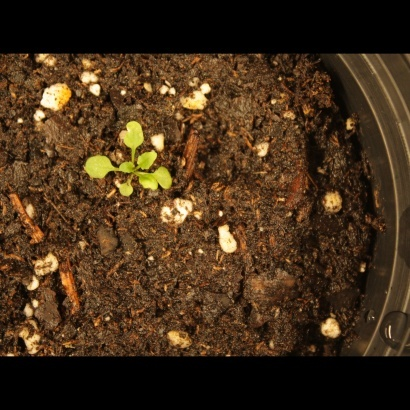leaf: (119, 117, 149, 151), (81, 154, 115, 181), (137, 148, 160, 171), (116, 180, 139, 203), (116, 156, 139, 179), (136, 173, 159, 196), (155, 167, 178, 190)
